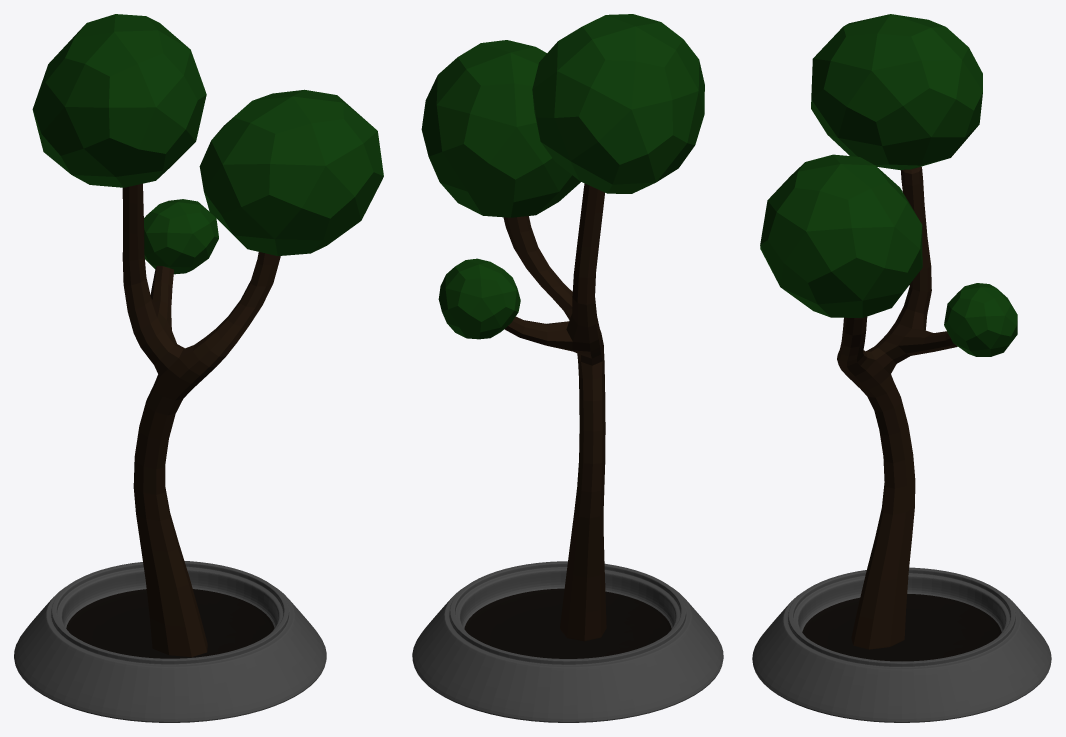
The model's file is Tree_wPot.obj.
The picture shows the model from 3 angles, left to right: view 1: azimuth 30°, elevation 25°; view 2: azimuth 150°, elevation 25°; view 3: azimuth 270°, elevation 25°; orthographic projection. The views are drawn at different scales.
Parts seen in each view (by area): view 1: Tree_w/Pot_Icosphere.005; view 2: Tree_w/Pot_Icosphere.005; view 3: Tree_w/Pot_Icosphere.005.
Part boxes in pixels (x1,y1,x2,y2): Tree_w/Pot_Icosphere.005: (14,14,383,722); Tree_w/Pot_Icosphere.005: (412,14,723,722); Tree_w/Pot_Icosphere.005: (752,14,1051,722).
Size of the model in its own units: 2.04 by 4.13 by 1.81.
